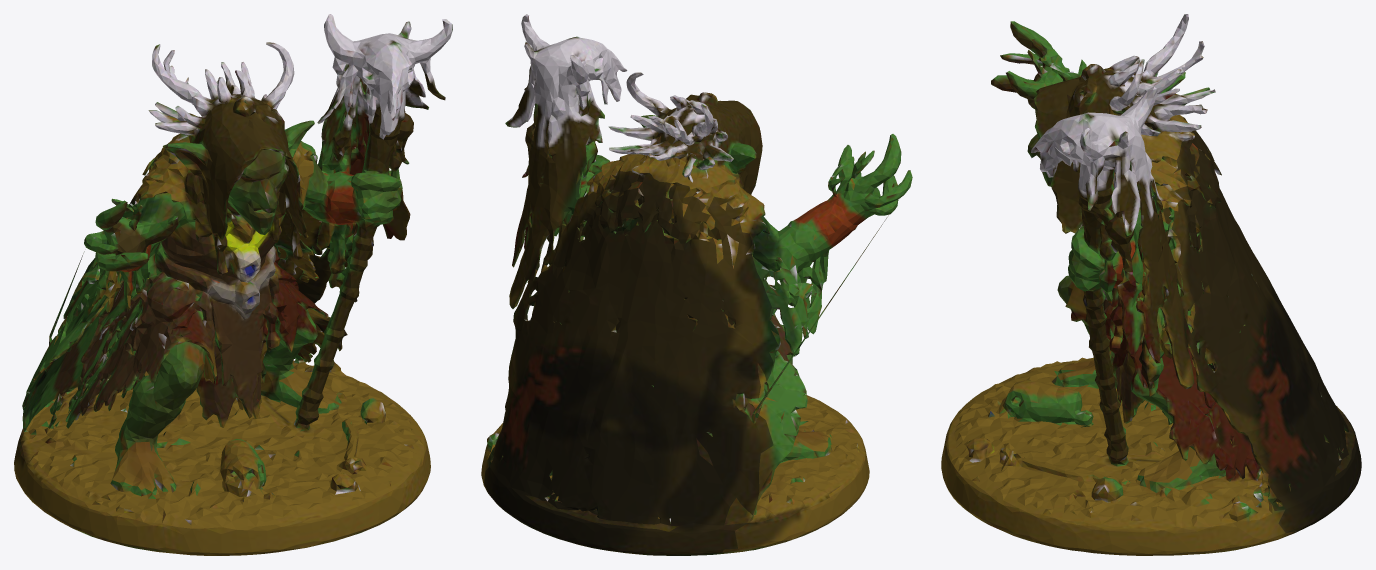
File: xama_goblin.glb
3 views of the same model, side by side, from view 1: azimuth 30°, elevation 25°; view 2: azimuth 150°, elevation 25°; view 3: azimuth 270°, elevation 25° (orthographic). The views are drawn at different scales.
Parts seen in each view (by area): view 1: tmpfo5kunsn.ply; view 2: tmpfo5kunsn.ply; view 3: tmpfo5kunsn.ply.
Boxes of the visible parts, x1,y1,x2,y2 form: tmpfo5kunsn.ply: (14,14,452,555); tmpfo5kunsn.ply: (481,14,912,555); tmpfo5kunsn.ply: (941,14,1361,555).
Bounding box in the file's own units: 1.86 × 1.96 × 1.71.
1 material, 1 textured.
